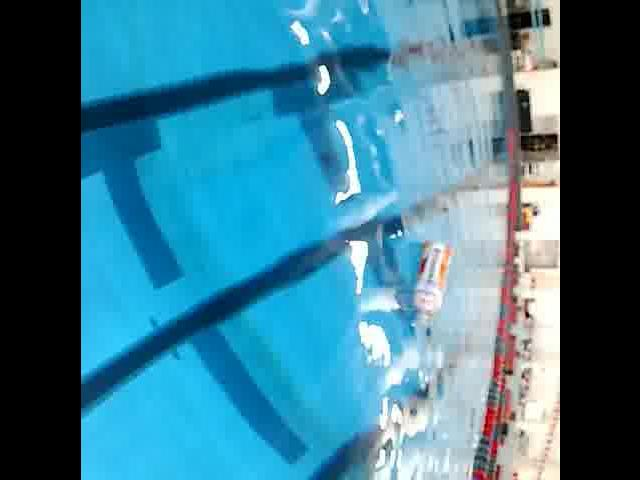Bottle: (408, 236, 458, 336)
